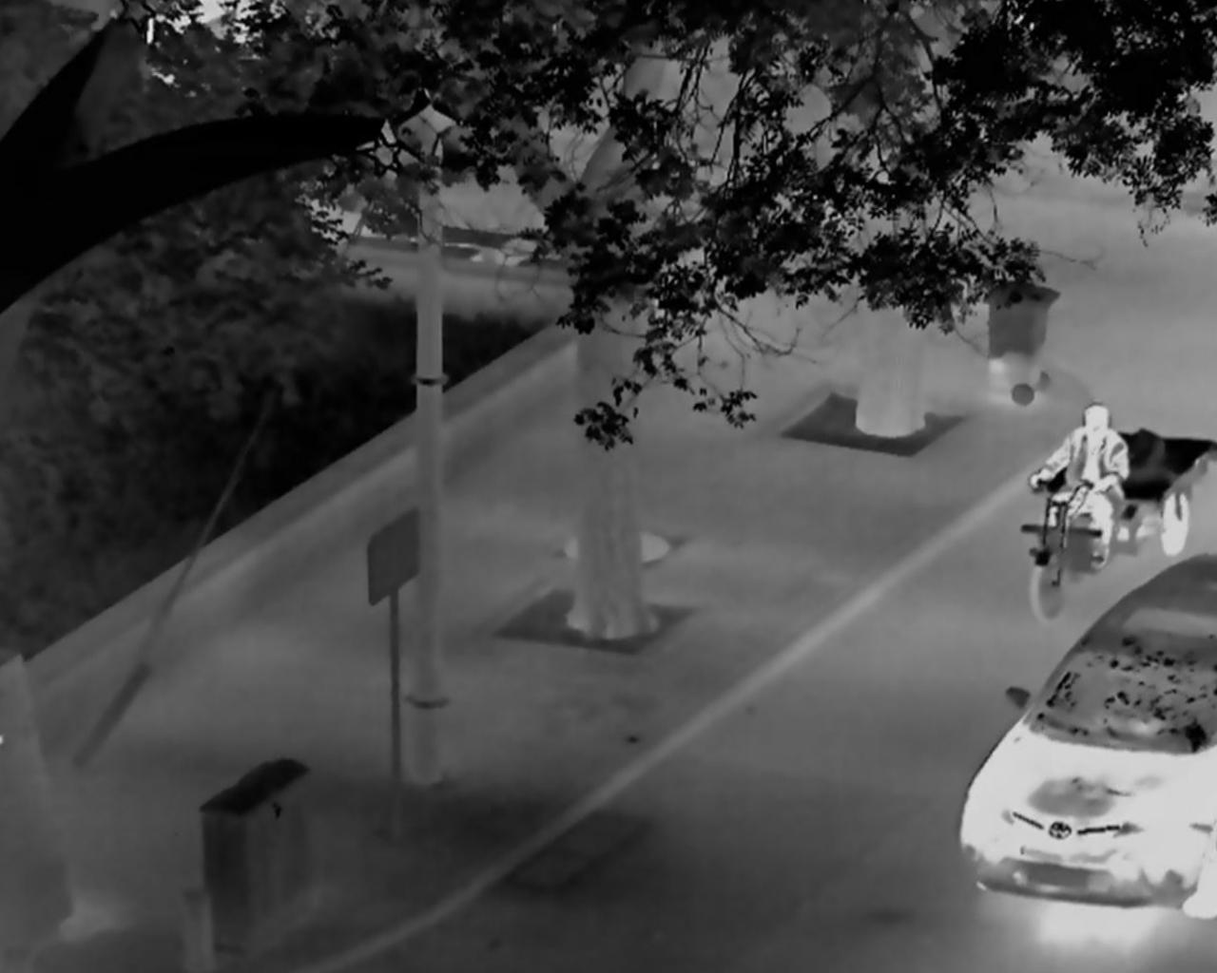person: (1027, 401, 1127, 571)
